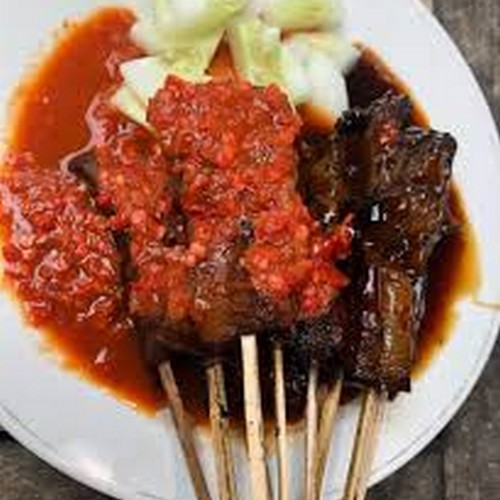sate plecing: (97, 73, 440, 392)
